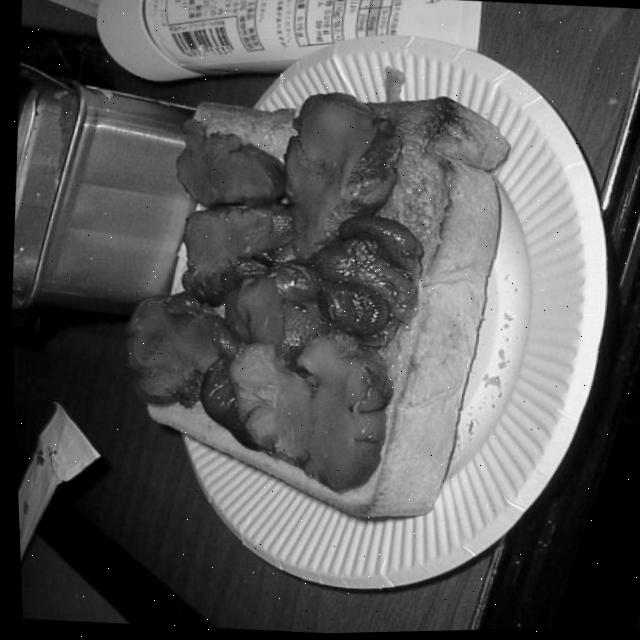面包点心: (98, 68, 528, 489)
